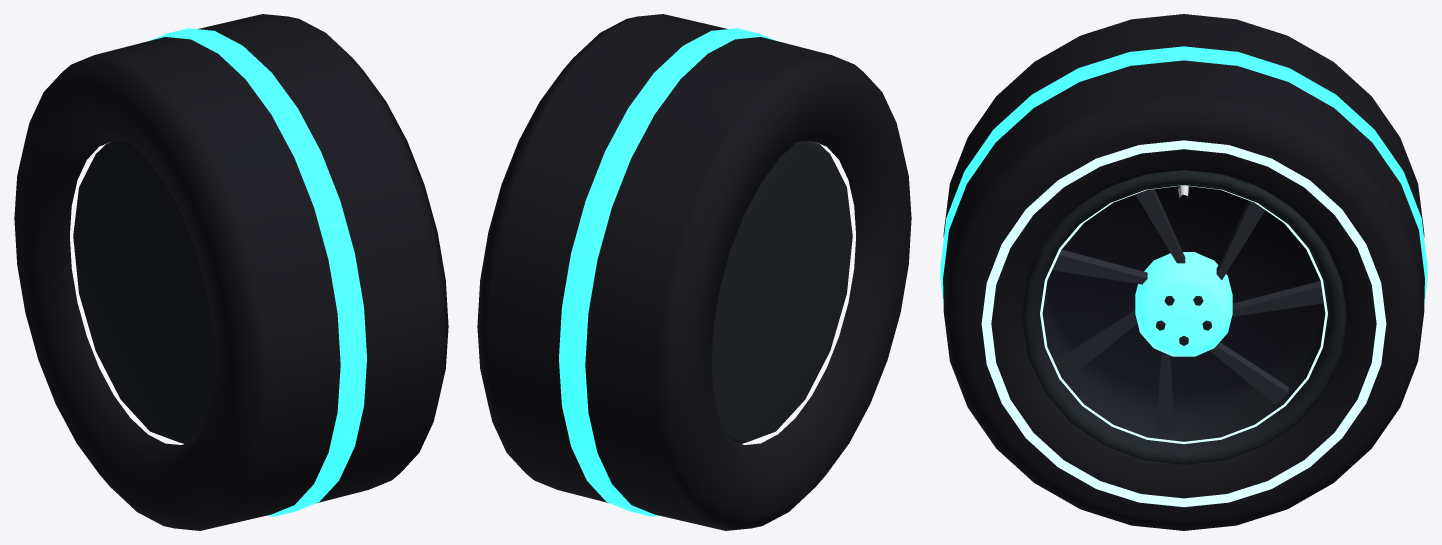
The model's file is neon.glb.
3 views of the same model, side by side, from view 1: azimuth 30°, elevation 25°; view 2: azimuth 150°, elevation 25°; view 3: azimuth 270°, elevation 25° (orthographic).
Parts seen in each view (by area): view 1: tire; view 2: tire; view 3: tire.
Part boxes in pixels (x1,y1,x2,y2): tire: [14, 14, 448, 530]; tire: [477, 14, 911, 530]; tire: [940, 14, 1427, 530].
Bounding box in the file's own units: 1 × 2 × 2.
